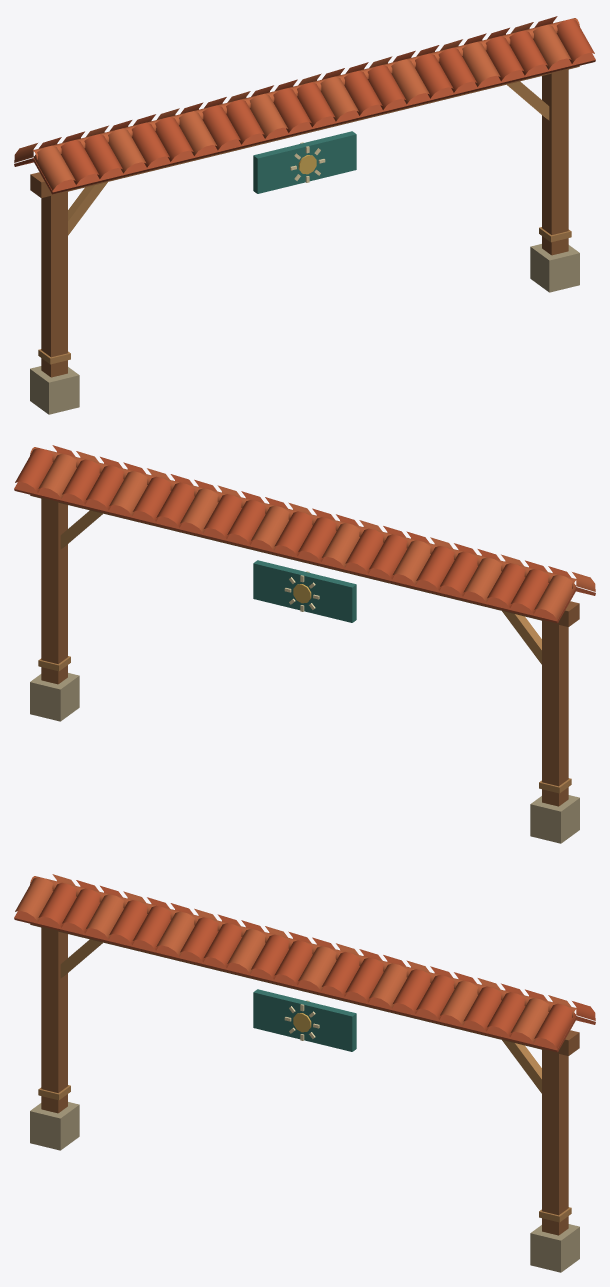
Rendered from entrance.glb.
The picture shows the model from 3 angles, top to bottom: view 1: azimuth 30°, elevation 25°; view 2: azimuth 150°, elevation 25°; view 3: azimuth 330°, elevation 25°; orthographic projection.
Parts seen in each view (by area): view 1: entrance-portal; view 2: entrance-portal; view 3: entrance-portal.
Part boxes in pixels (x1,y1,x2,y2): entrance-portal: [14, 16, 595, 414]; entrance-portal: [14, 445, 595, 843]; entrance-portal: [14, 874, 595, 1272].
Bounding box in the file's own units: 11.5 × 5.31 × 1.64.
